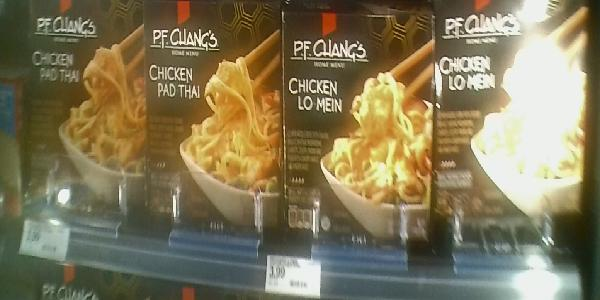pizza1: (435, 1, 586, 251), (283, 8, 435, 248), (147, 1, 281, 238), (21, 1, 147, 232)
